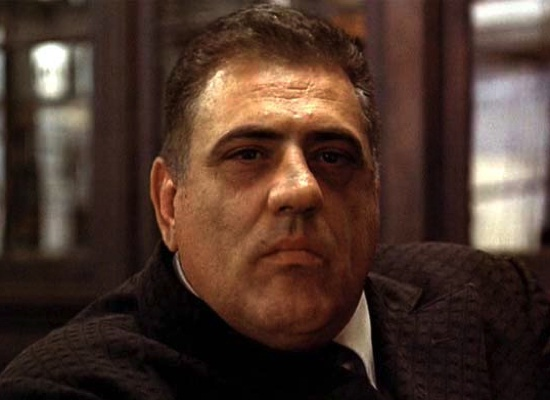bad: (167, 93, 390, 316)
